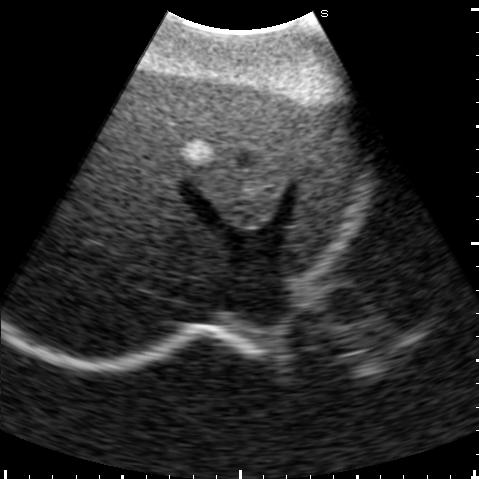S2: (283, 104, 363, 274)
S4: (133, 76, 304, 227)
S7: (36, 238, 174, 355)
S8: (94, 141, 224, 279)
Tumor: (181, 141, 212, 165)
